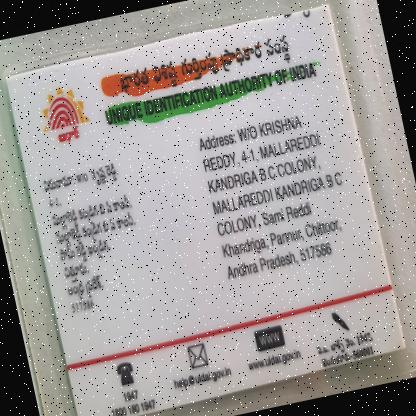aadhaar_card: (0, 0, 413, 415)
